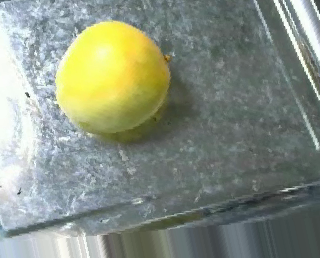Mango: (52, 18, 175, 136)
